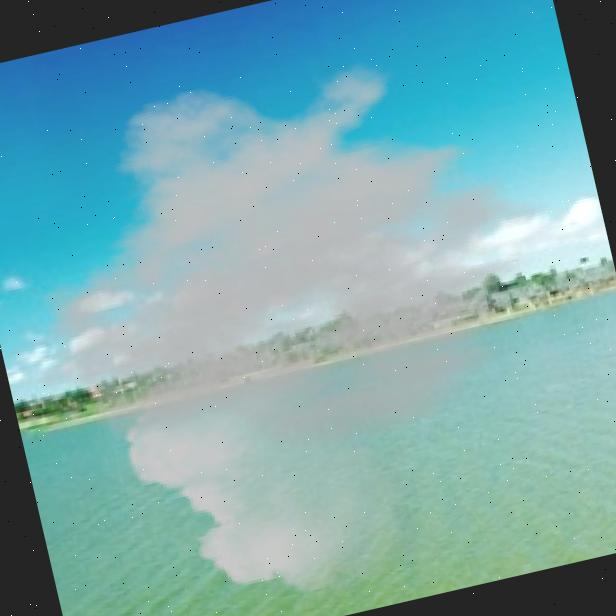smoke: (0, 9, 616, 616)
